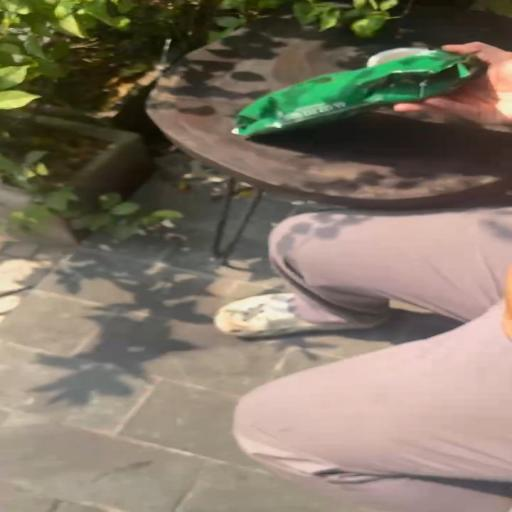cafe_xay: (232, 50, 484, 138)
